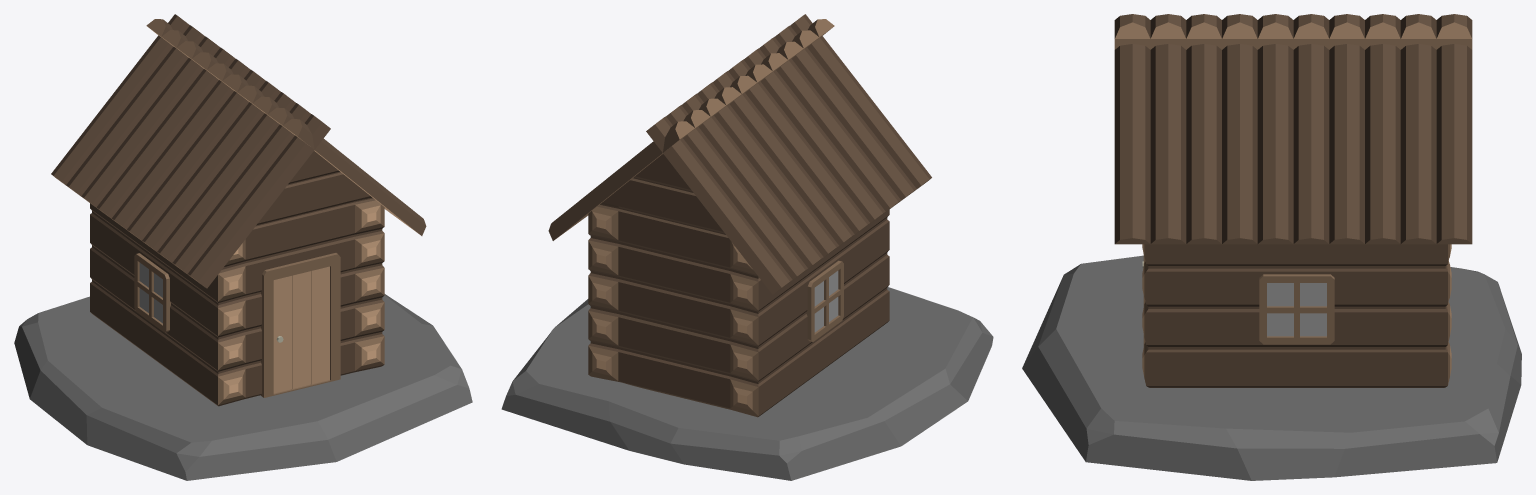
Rendered from Cabin.fbx.
The picture shows the model from 3 angles, left to right: view 1: azimuth 30°, elevation 25°; view 2: azimuth 150°, elevation 25°; view 3: azimuth 270°, elevation 25°; orthographic projection. The views are drawn at different scales.
Visible parts, largest first — view 1: Foundation, Roof, Cabin, Door; view 2: Cabin, Roof, Foundation; view 3: Roof, Foundation, Cabin.
Boxes of the visible parts, x1,y1,x2,y2 form: Foundation: [14, 294, 472, 480]; Roof: [51, 14, 426, 288]; Cabin: [90, 151, 384, 406]; Door: [273, 266, 329, 393]; Cabin: [588, 154, 889, 417]; Roof: [548, 14, 931, 294]; Foundation: [501, 287, 993, 480]; Roof: [1114, 14, 1472, 244]; Foundation: [1022, 255, 1521, 480]; Cabin: [1142, 244, 1451, 387].
Size of the model in its own units: 6.59 by 5.27 by 6.63.
